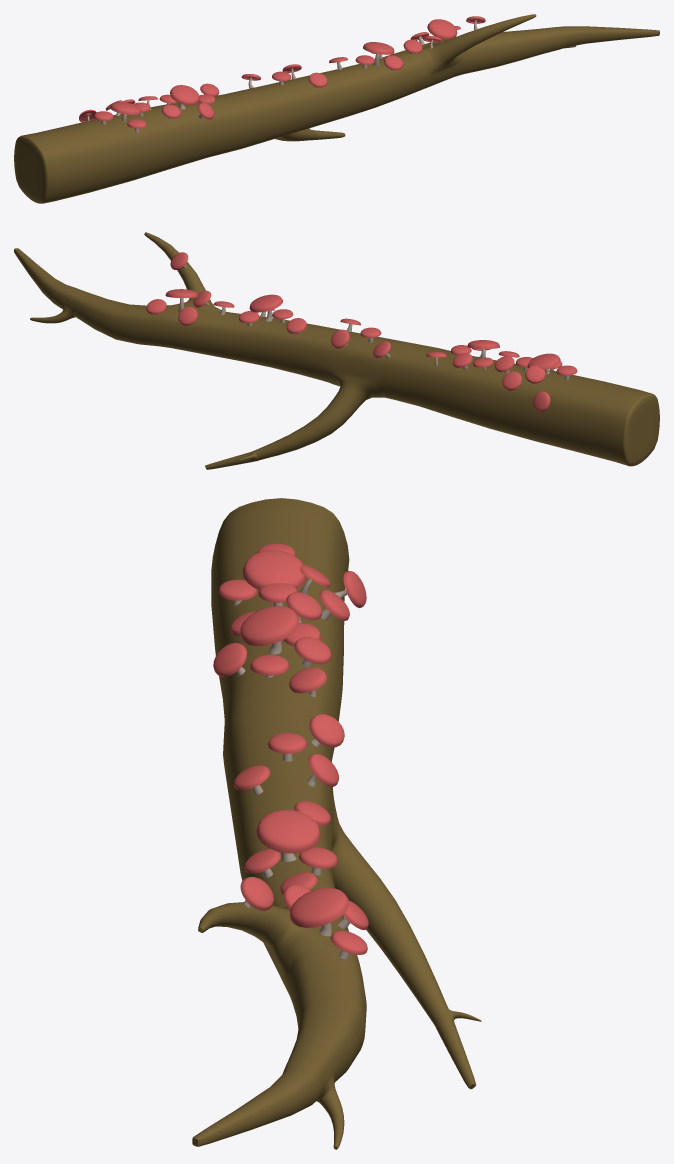
The model's file is Branch_Bouncy.fbx.
3 views of the same model, one above another, from view 1: azimuth 30°, elevation 25°; view 2: azimuth 150°, elevation 25°; view 3: azimuth 270°, elevation 25° (orthographic). The views are drawn at different scales.
Parts seen in each view (by area): view 1: pCube2, polySurface37, polySurface38; view 2: pCube2, polySurface37, polySurface38; view 3: pCube2, polySurface37, polySurface38.
Part boxes in pixels (x1=…): pCube2: x1=14, y1=14, x2=659, y2=203; polySurface37: x1=79, y1=16, x2=485, y2=122; polySurface38: x1=94, y1=26, x2=460, y2=132; pCube2: x1=14, y1=232, x2=659, y2=469; polySurface37: x1=165, y1=252, x2=560, y2=411; polySurface38: x1=146, y1=299, x2=577, y2=390; pCube2: x1=192, y1=498, x2=481, y2=1149; polySurface37: x1=213, y1=550, x2=366, y2=936; polySurface38: x1=218, y1=543, x2=368, y2=959.
Bounding box in the file's own units: 23.42 × 5.25 × 4.81.
